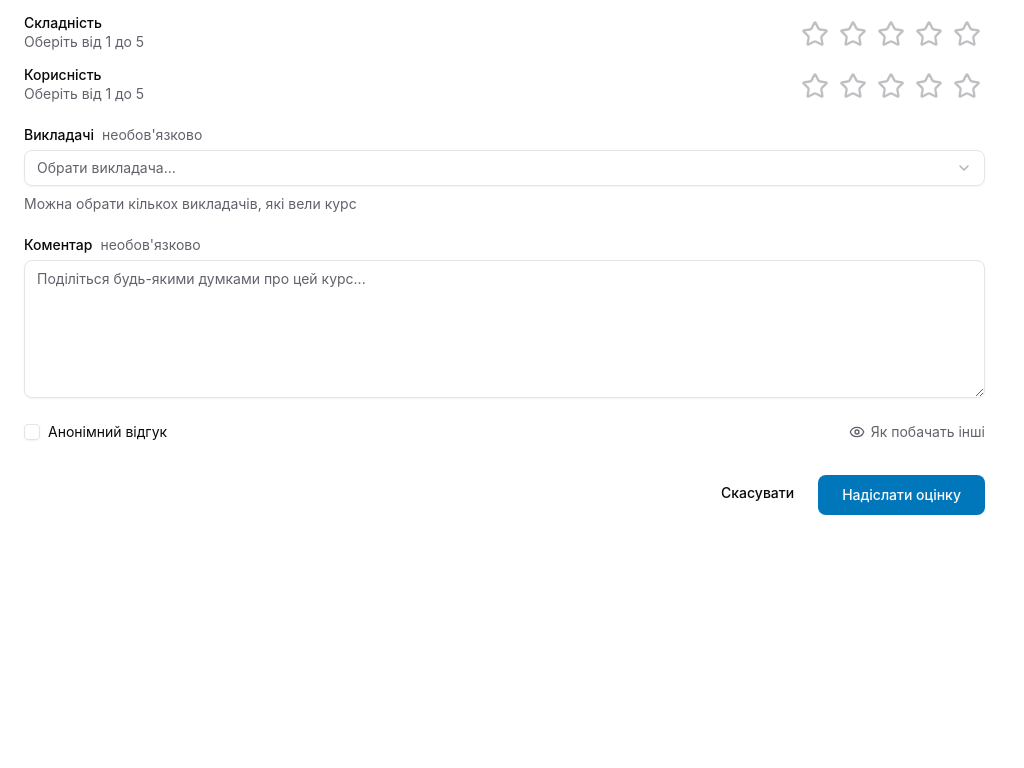
RatingForm › score inputs › does not submit until both scores are chosen
This screenshot has width=1024, height=768.
Click the radio button named "4 з 5" in the row of "Складність".
click(929, 34)  # box [911,16,947,52]
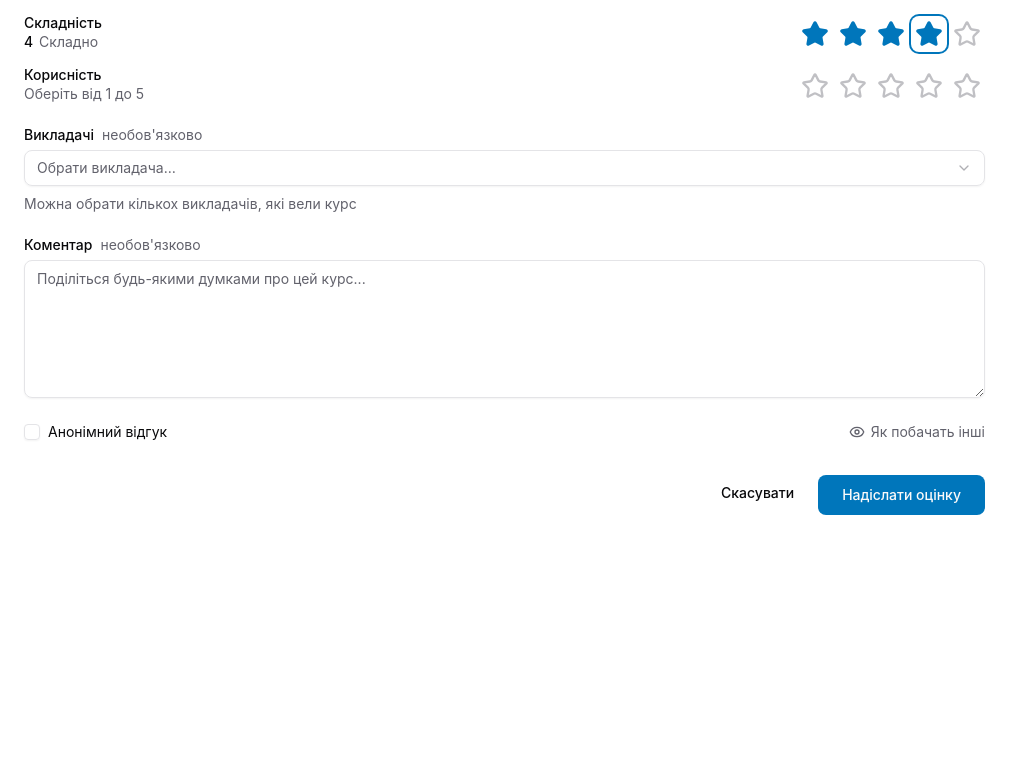
Click the button with test id "rating-submit-button".
click(902, 495)  # box [818,475,985,515]
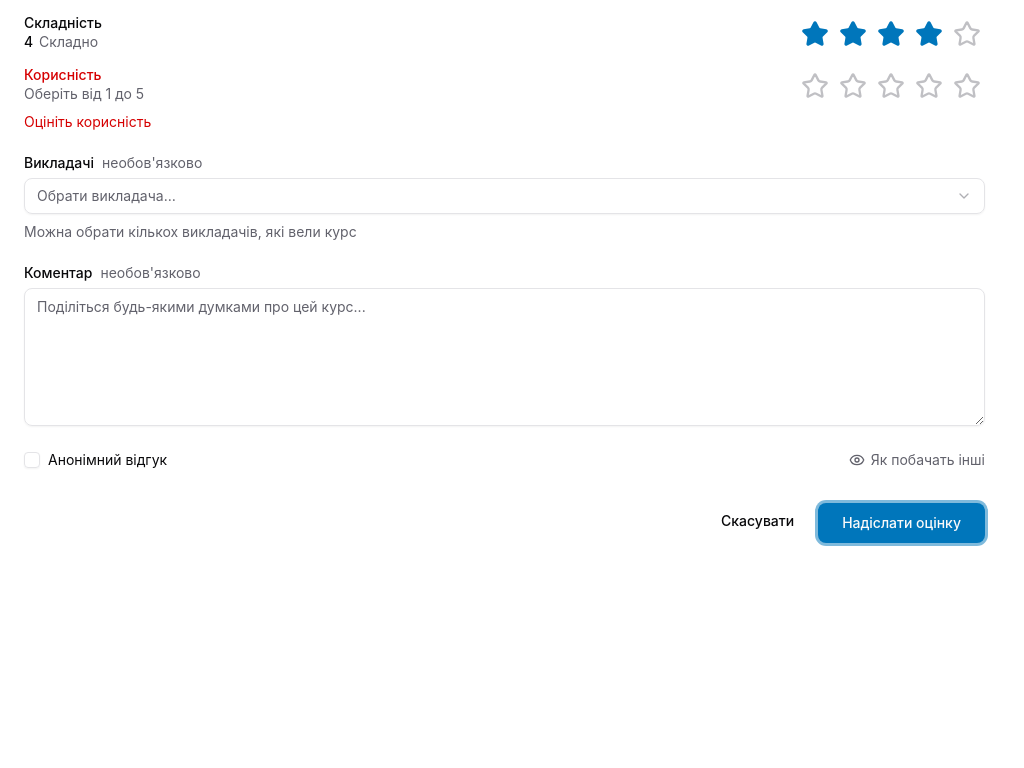
Expected: the text "Оцініть корисність" is shown, [24,113,151,130]
